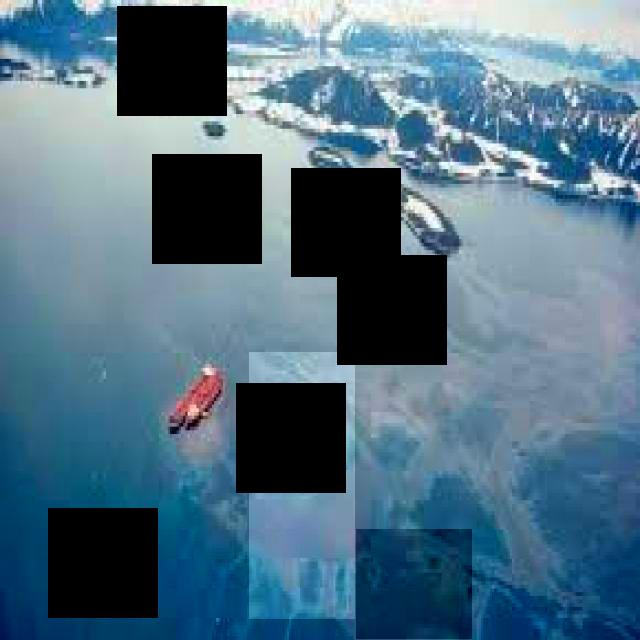oil spill: (250, 353, 355, 619), (357, 529, 472, 639)
